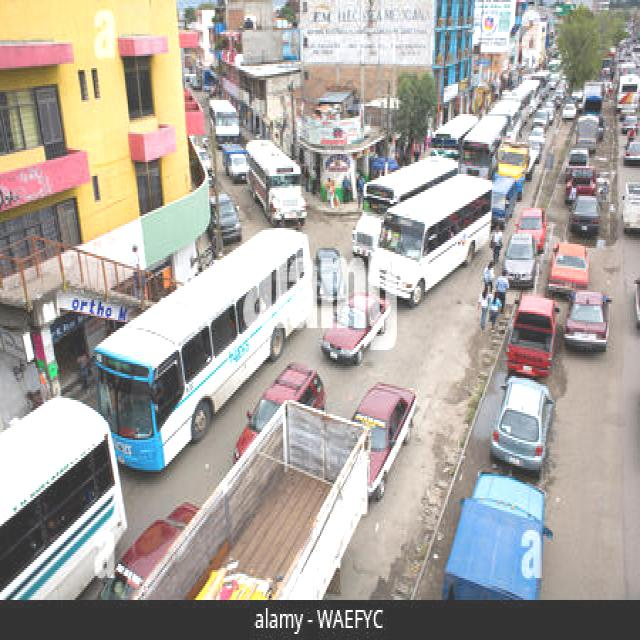BUS: (89, 226, 307, 469), (372, 179, 492, 307), (248, 143, 309, 230)
CMT: (504, 293, 556, 379)
SED: (491, 376, 554, 474), (320, 291, 393, 365), (563, 287, 614, 351), (547, 240, 590, 291), (502, 232, 538, 290), (314, 245, 344, 308)
